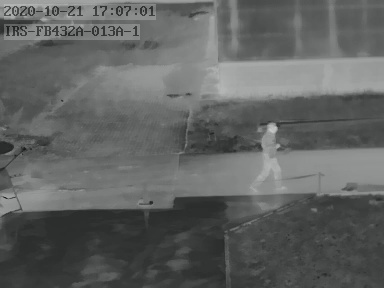person: (251, 122, 283, 189)
